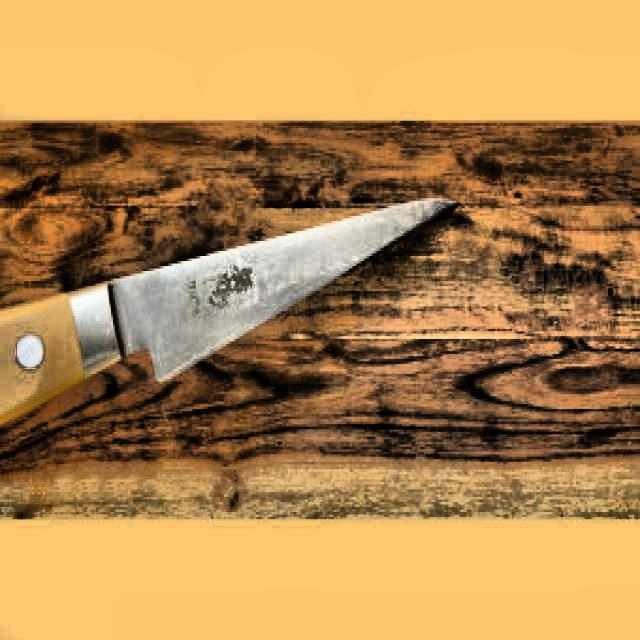knife: (0, 190, 458, 430)
